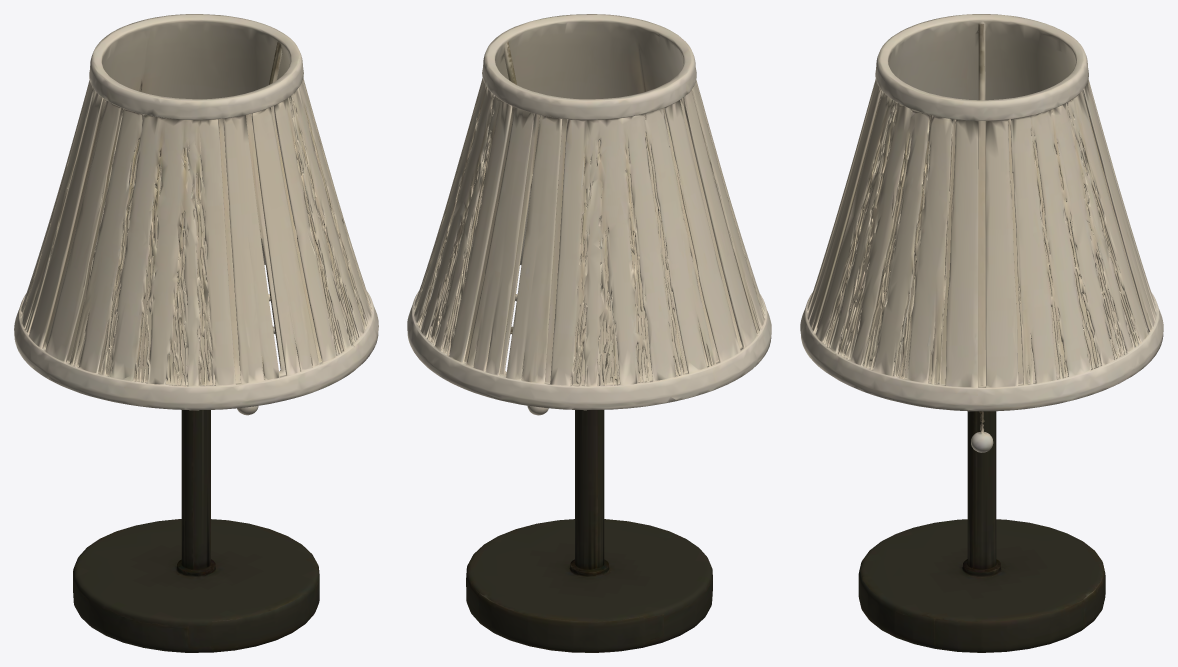
File: lamp.glb
3 views of the same model, side by side, from view 1: azimuth 30°, elevation 25°; view 2: azimuth 150°, elevation 25°; view 3: azimuth 270°, elevation 25° (orthographic).
Visible parts, largest first — view 1: material; view 2: material; view 3: material.
Part boxes in pixels (<box>): material: <box>14,14,378,652</box>; material: <box>407,14,771,652</box>; material: <box>800,14,1163,652</box>.
Size of the model in its own units: 0.6831 by 1.12 by 0.6756.
Materials: 1 (1 with a texture image).
